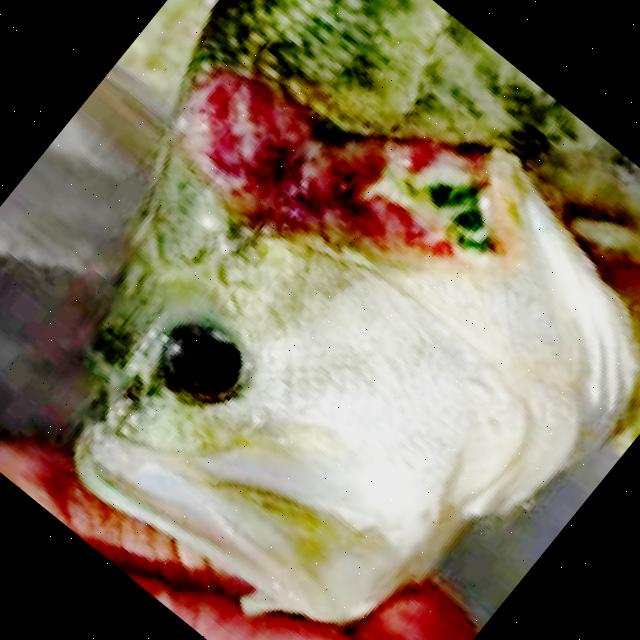Aeromonas Septicemia: (77, 0, 640, 621)
